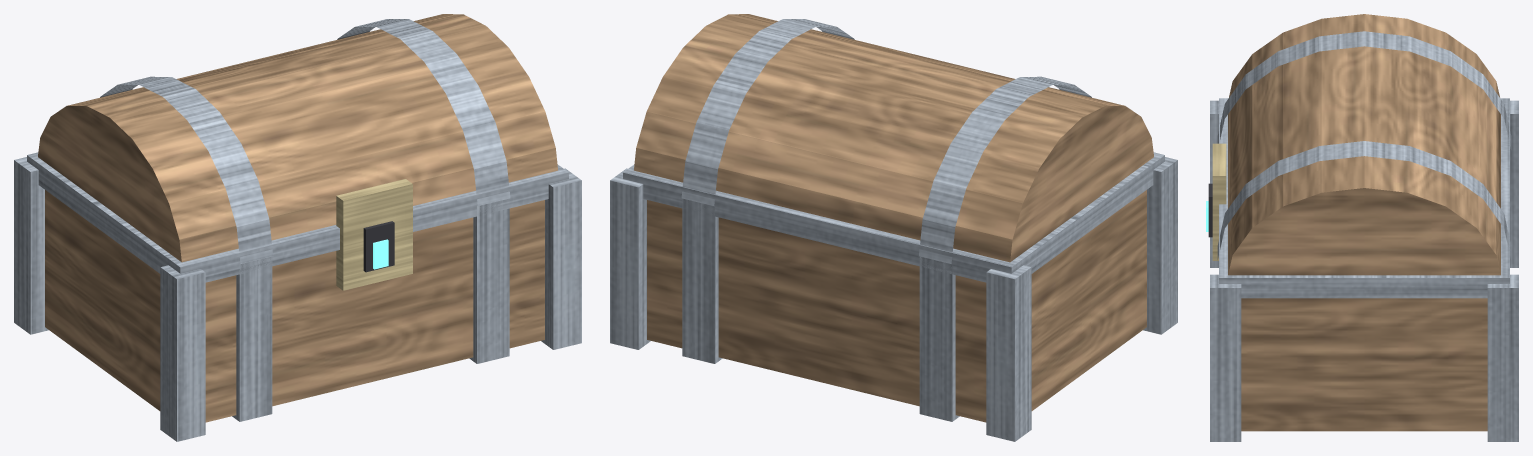
File: treasure-chest-tools.glb
3 views of the same model, side by side, from view 1: azimuth 30°, elevation 25°; view 2: azimuth 150°, elevation 25°; view 3: azimuth 270°, elevation 25° (orthographic). The views are drawn at different scales.
Visible parts, largest first — view 1: treasure-chest-tools; view 2: treasure-chest-tools; view 3: treasure-chest-tools.
Part boxes in pixels (x1,y1,x2,y2): treasure-chest-tools: (14,14,581,441); treasure-chest-tools: (610,14,1177,441); treasure-chest-tools: (1206,14,1518,441).
Bounding box in the file's own units: 0.99 × 0.628 × 0.699.
5 materials, 3 textured.
